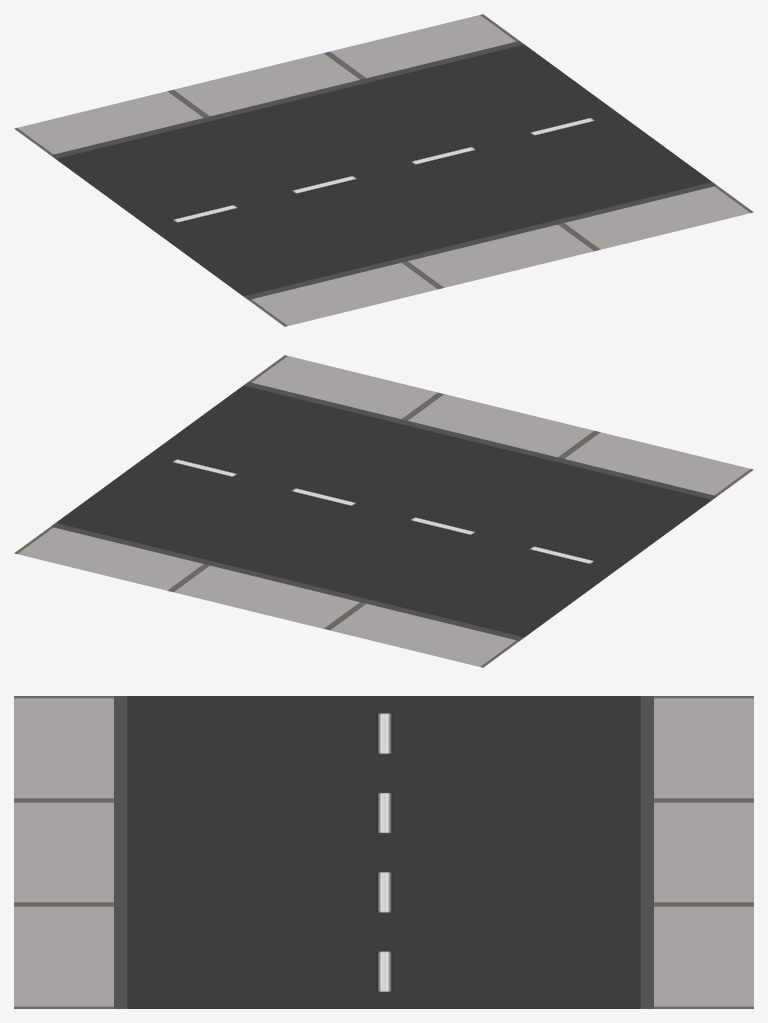
The model's file is road tile1.FBX.
The picture shows the model from 3 angles, top to bottom: view 1: azimuth 30°, elevation 25°; view 2: azimuth 150°, elevation 25°; view 3: azimuth 270°, elevation 25°; orthographic projection. The views are drawn at different scales.
Visible parts, largest first — view 1: road tile1; view 2: road tile1; view 3: road tile1.
Part boxes in pixels (left/top/right/bottom): road tile1: left=14, top=14, right=753, bottom=326; road tile1: left=14, top=355, right=753, bottom=667; road tile1: left=14, top=696, right=753, bottom=1008.
Bounding box in the file's own units: 20 × 8.74e-07 × 20.
